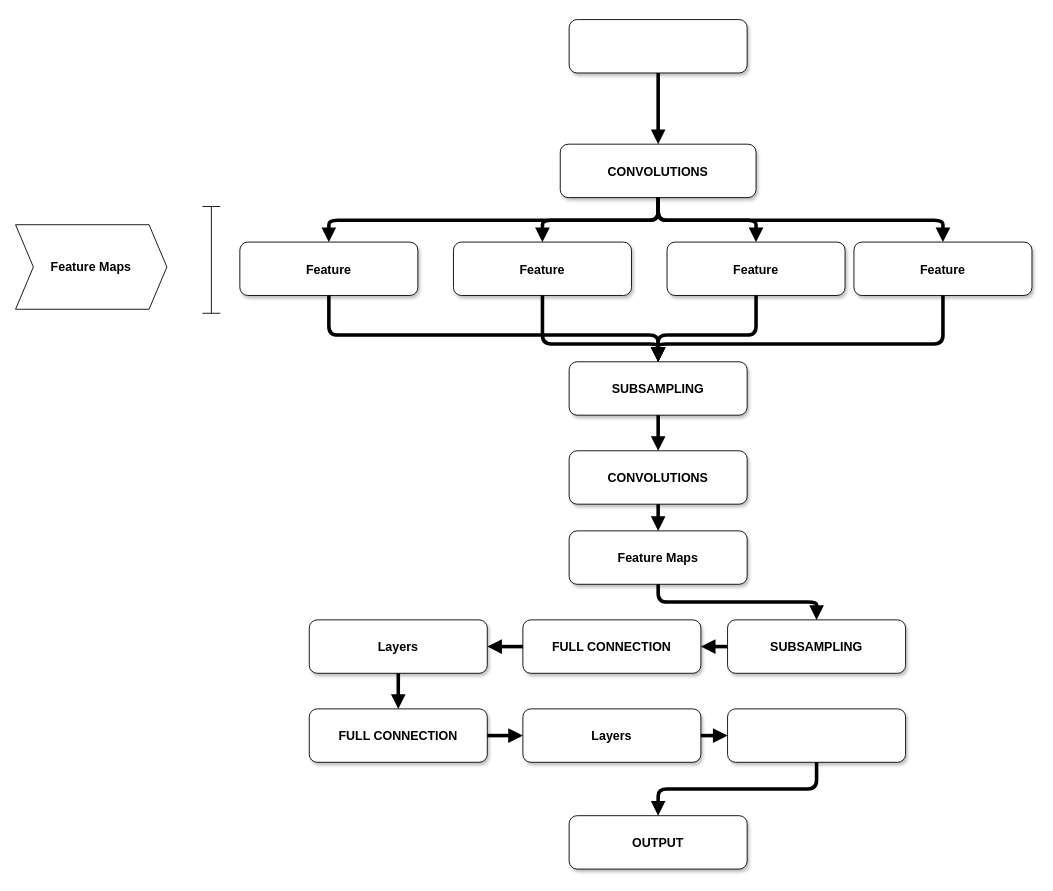
Some shapes in this 1053 by 891 pixel diagram are drawn without their labels. Each missing label, with the centre of its shape:
"GAUSSIAN CONNECTION" goes at (x=817, y=736).
"INPUT" goes at (x=658, y=47).
